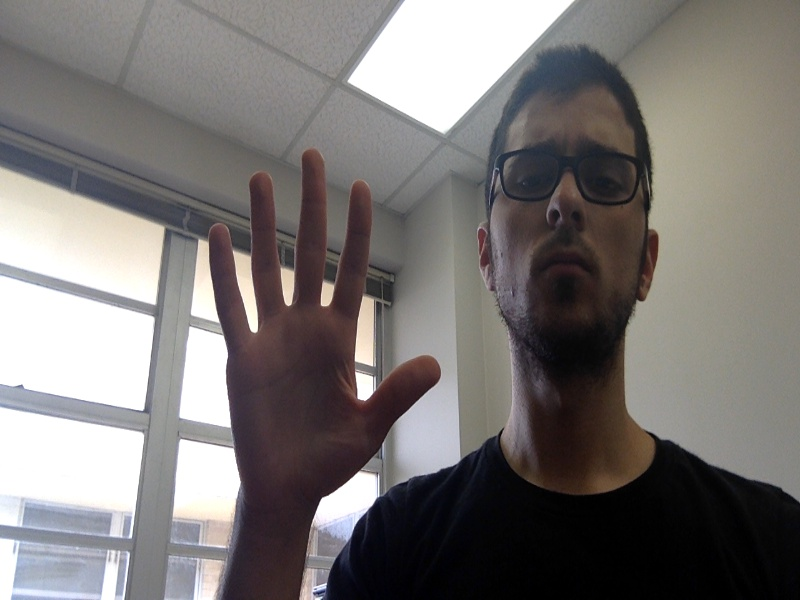5-hand: (209, 150, 441, 496)
